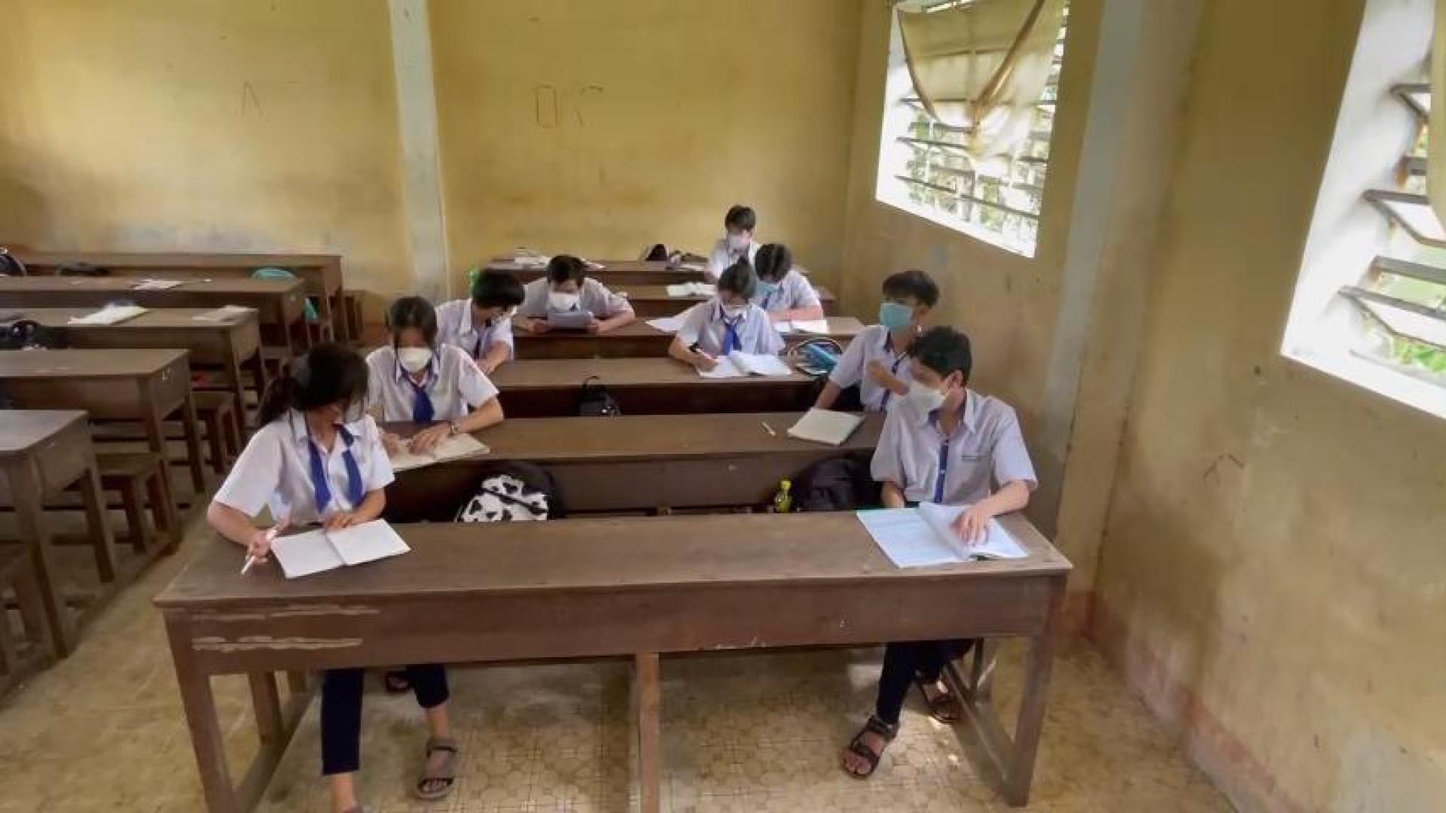Hand Under Table: (864, 397, 909, 508), (808, 320, 862, 412), (750, 303, 794, 364)
Look Around: (886, 318, 989, 425), (278, 333, 379, 440), (452, 239, 535, 335)
